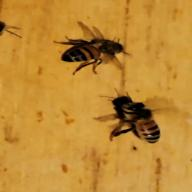Bee: (57, 24, 140, 74), (101, 88, 163, 147)
